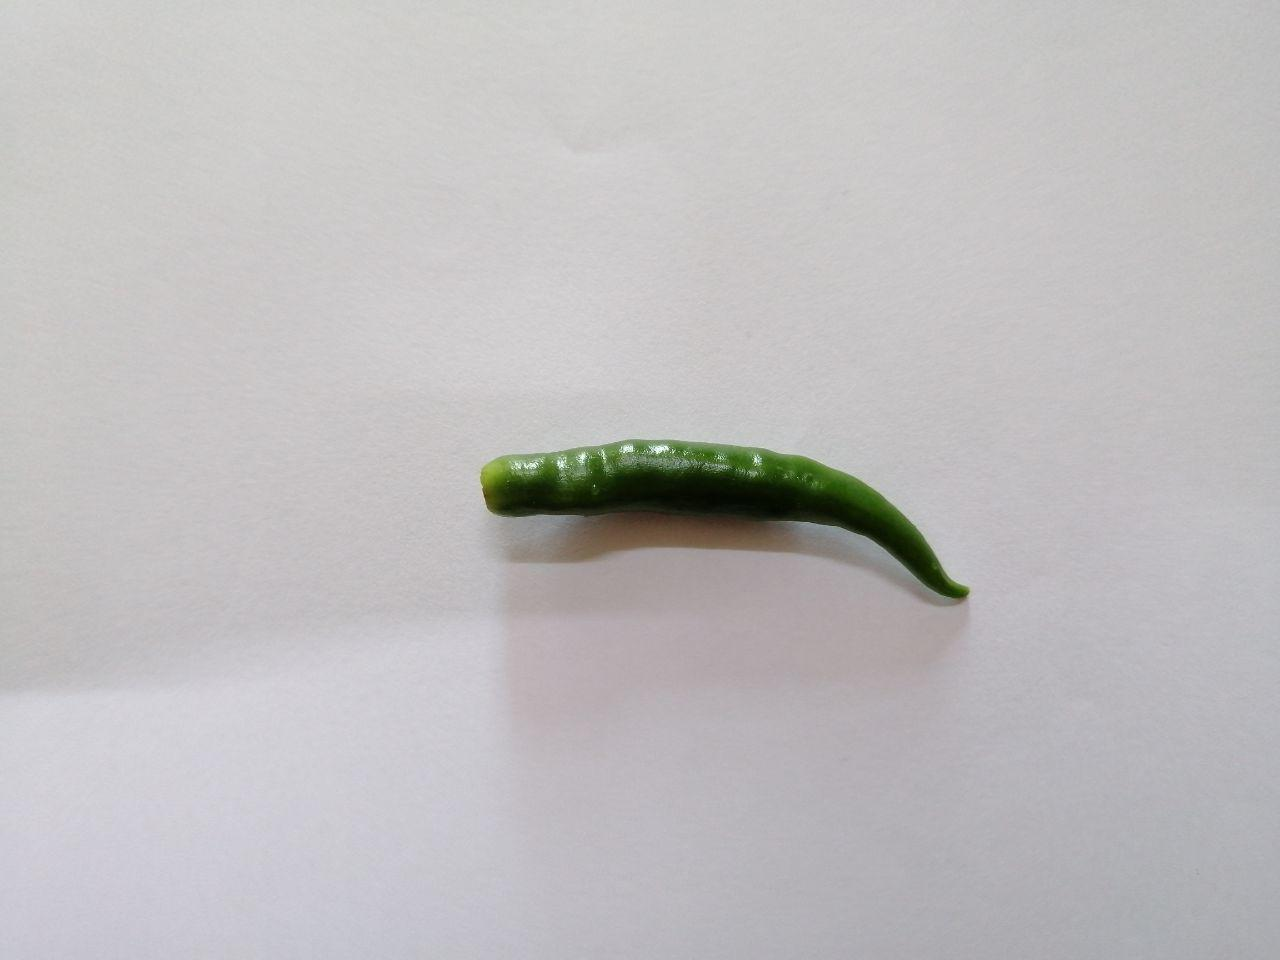lada hijau: (447, 409, 994, 622)
